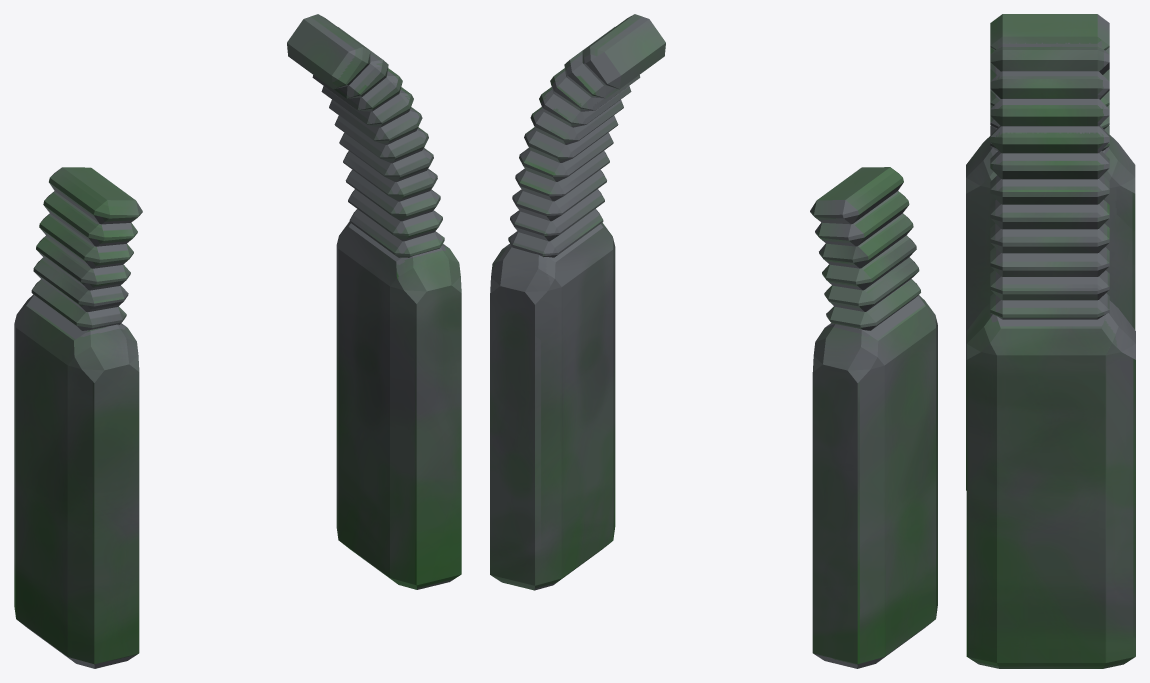
File: door.fbx
3 renders of one model, left to right at view 1: azimuth 30°, elevation 25°; view 2: azimuth 150°, elevation 25°; view 3: azimuth 270°, elevation 25°, orthographic. The views are drawn at different scales.
Visible parts, largest first — view 1: Cube.054; view 2: Cube.054; view 3: Cube.054.
Boxes of the visible parts, <box> form: Cube.054: <box>14,14,461,668</box>; Cube.054: <box>490,14,937,668</box>; Cube.054: <box>966,14,1135,668</box>.
Bounding box in the file's own units: 1.4 × 1.86 × 0.4979.
Materials: 1 (1 with a texture image).
